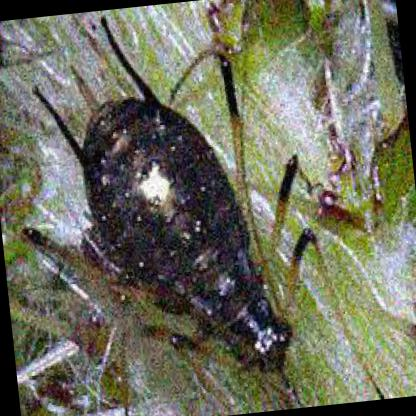uroleucon compositae: (74, 18, 312, 382)
